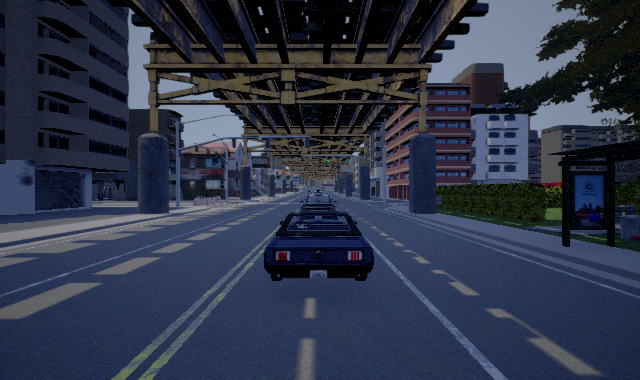traffic_light: (348, 156, 350, 162), (327, 156, 329, 162)
vehicle: (263, 210, 374, 281), (298, 194, 339, 213)
